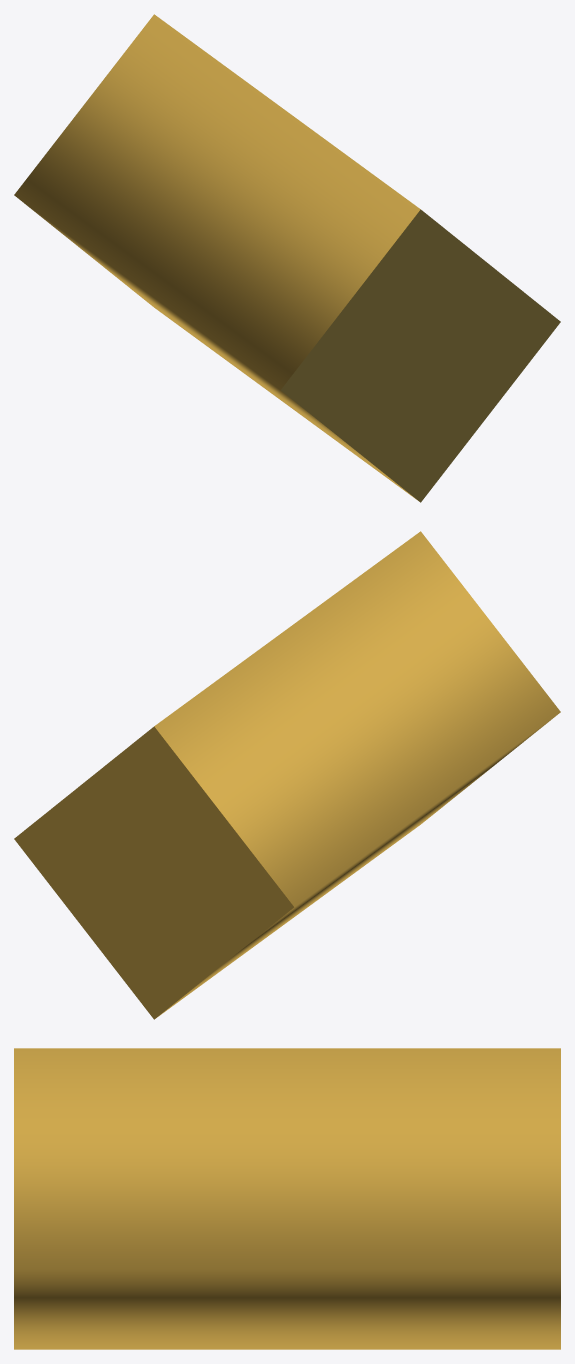
The model's file is FxEmpty9mm.FBX.
3 renders of one model, top to bottom at view 1: azimuth 30°, elevation 25°; view 2: azimuth 150°, elevation 25°; view 3: azimuth 270°, elevation 25°, orthographic. The views are drawn at different scales.
Parts seen in each view (by area): view 1: FxEmpty9mm; view 2: FxEmpty9mm; view 3: FxEmpty9mm.
Part boxes in pixels (box(x1,y1,x2,y2)): FxEmpty9mm: box(14, 14, 560, 502); FxEmpty9mm: box(14, 531, 560, 1019); FxEmpty9mm: box(14, 1048, 560, 1349).
Bounding box in the file's own units: 1.55 × 1.55 × 2.55.
